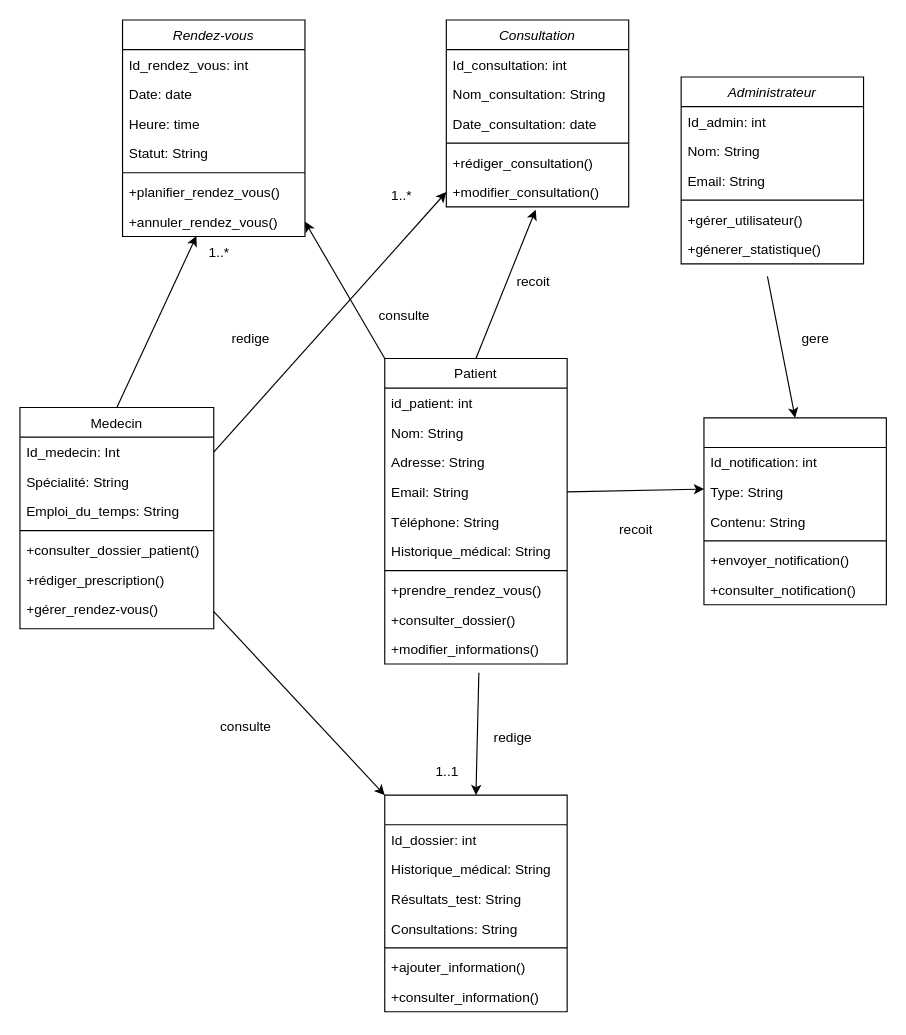
Image size: 906x1035. Some labels were removed from this diagram. The box of each missing label's shape, as (x1, y1, x2, y2) in pixels:
Dossier Medical: (384, 794, 567, 1012)
Notifications: (703, 417, 886, 605)
